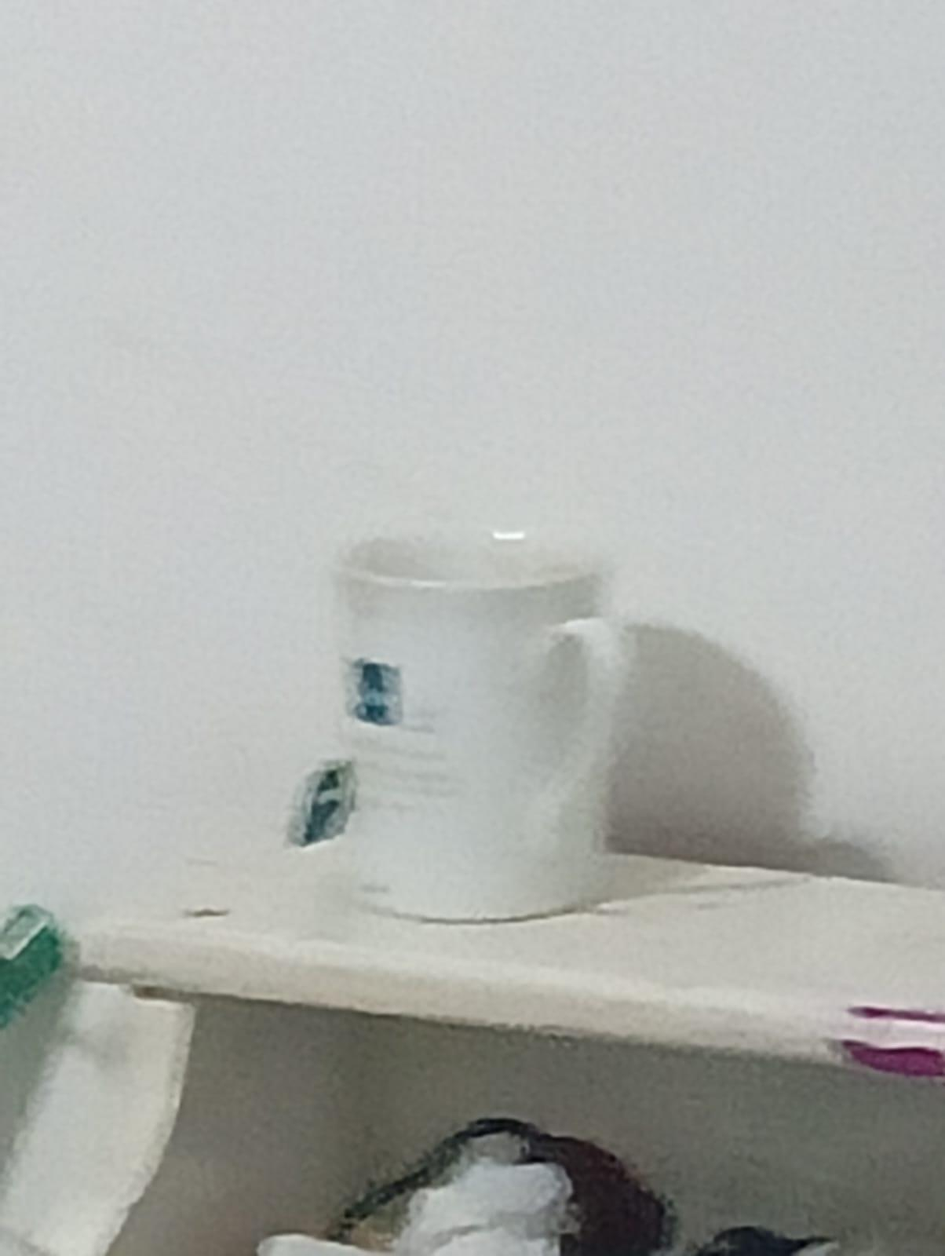cup: (338, 532, 623, 920)
